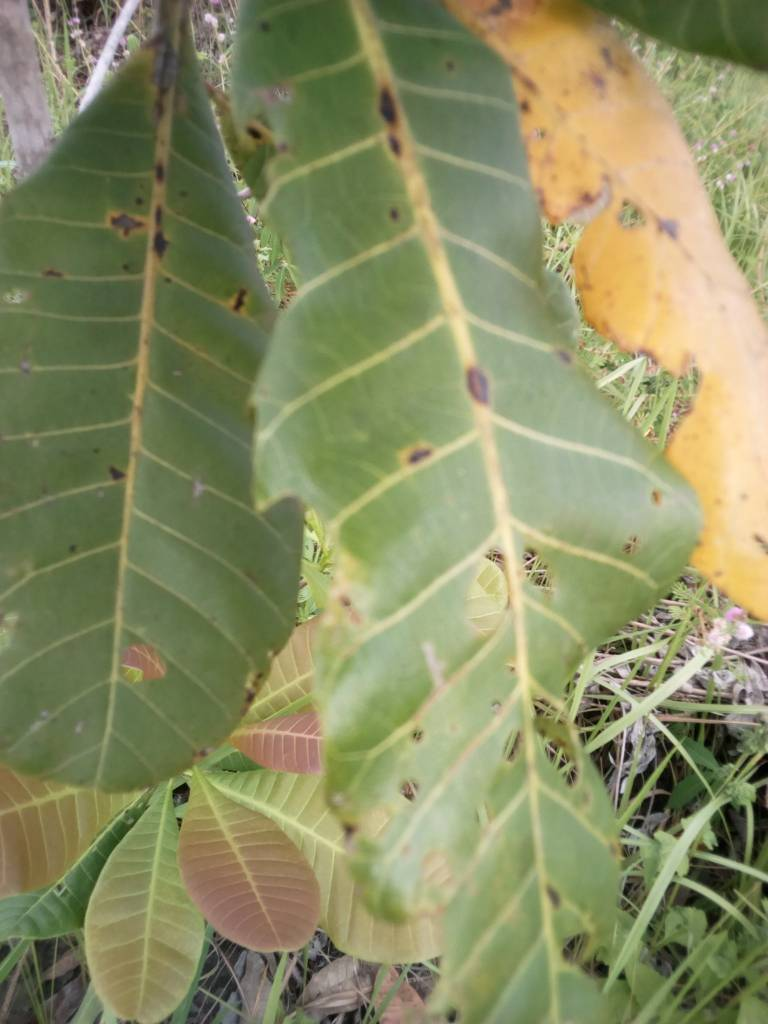Pestalotiose: (290, 25, 643, 991), (1, 57, 250, 789)
